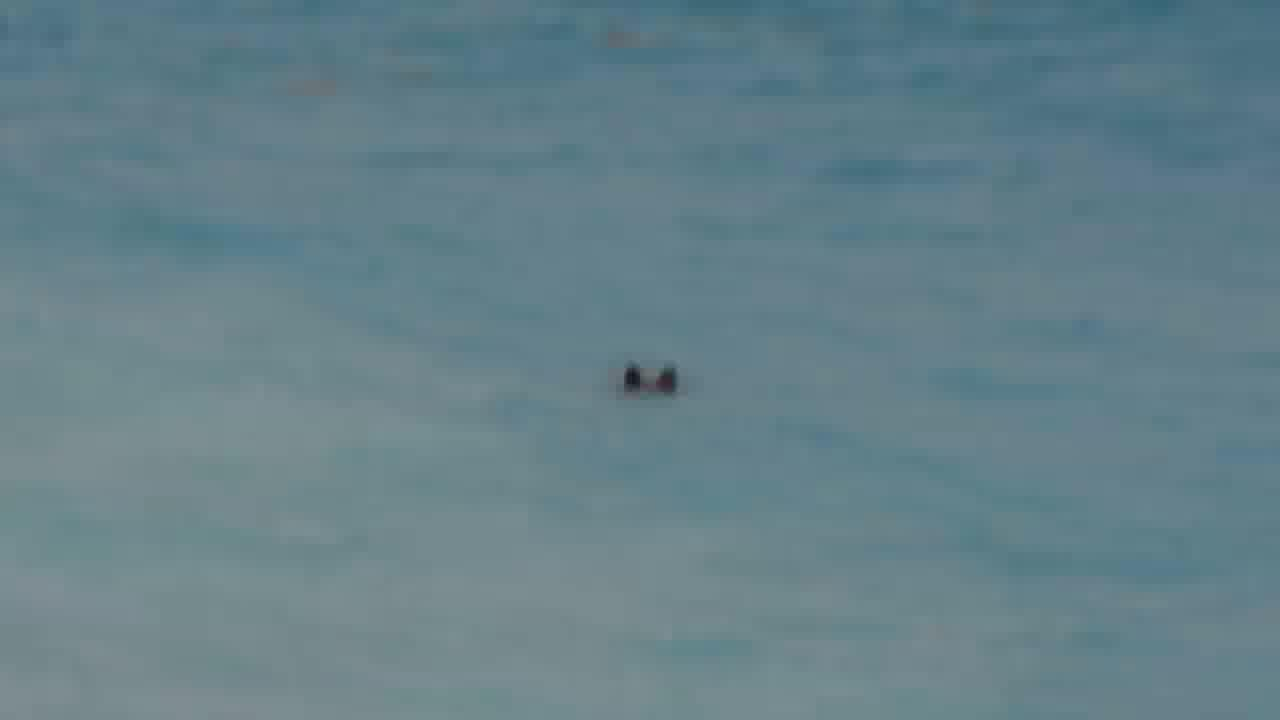swimmer: (644, 349, 694, 397), (618, 346, 636, 399)
